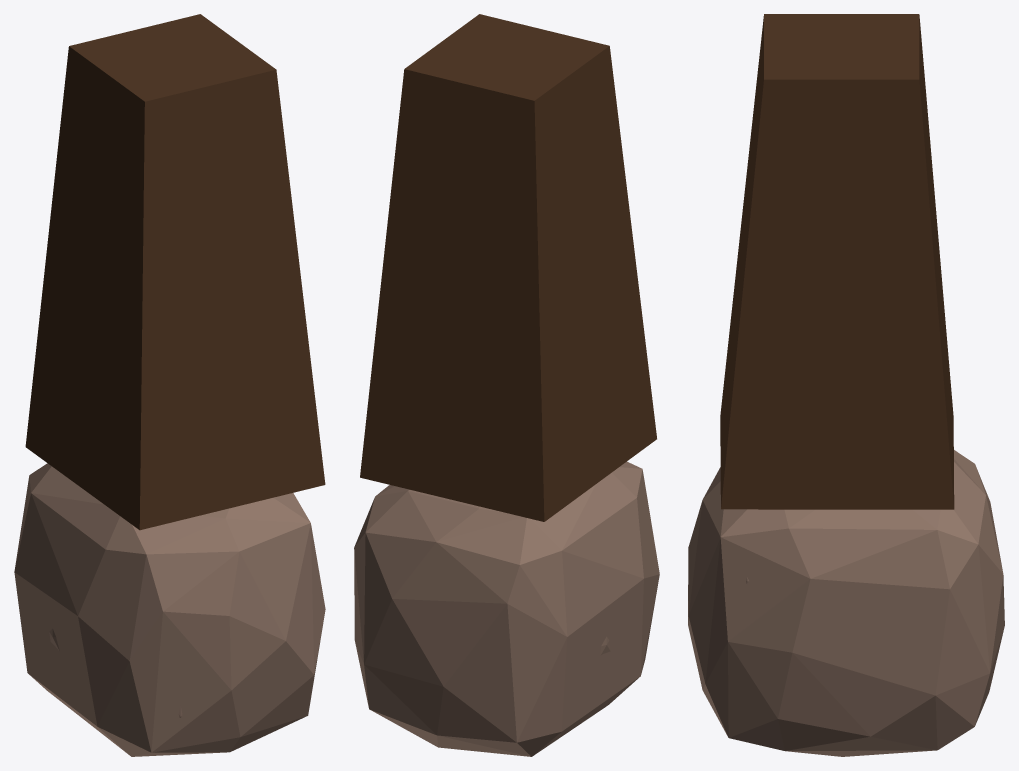
Rendered from nail_polish.glb.
3 views of the same model, side by side, from view 1: azimuth 30°, elevation 25°; view 2: azimuth 150°, elevation 25°; view 3: azimuth 270°, elevation 25° (orthographic). The views are drawn at different scales.
Visible parts, largest first — view 1: Cube.001, Cube; view 2: Cube.001, Cube; view 3: Cube.001, Cube.
Boxes of the visible parts, bbox=[...] form: Cube.001: bbox=[25, 14, 325, 530]; Cube: bbox=[14, 463, 325, 756]; Cube.001: bbox=[360, 14, 656, 521]; Cube: bbox=[354, 461, 659, 756]; Cube.001: bbox=[720, 14, 954, 509]; Cube: bbox=[688, 450, 1004, 756].
Size of the model in its own units: 3.51 by 9.78 by 4.08.
